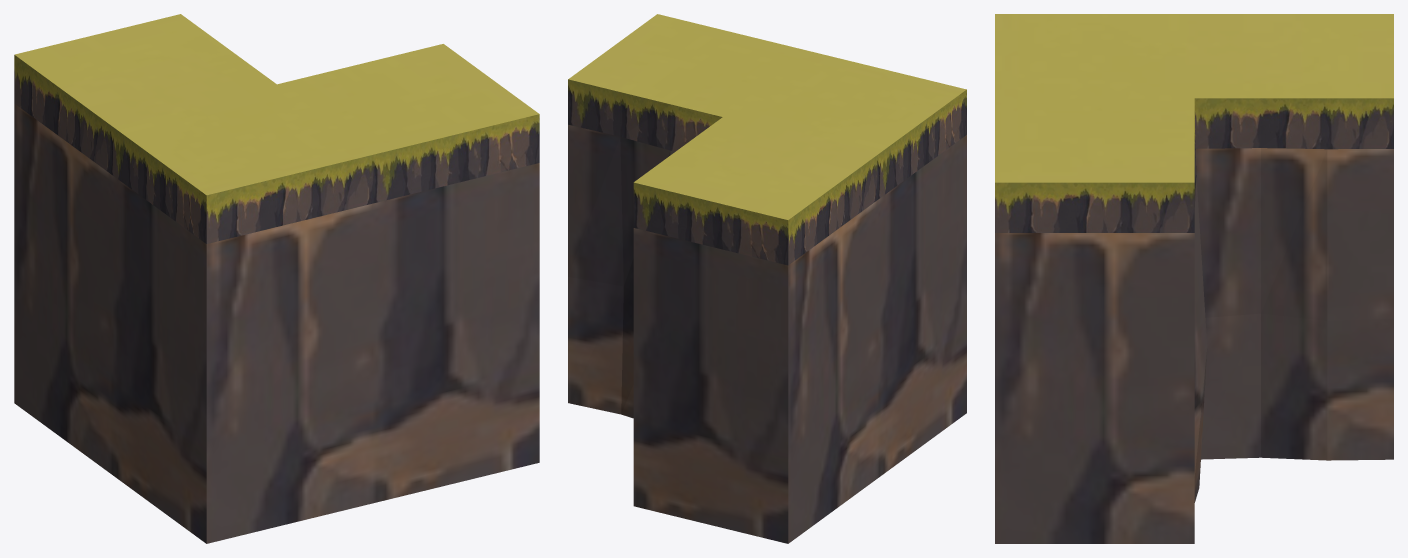
The model's file is SM_RC_Terrain_CliffCorner_Inner_8x8x8.gltf.
The picture shows the model from 3 angles, left to right: view 1: azimuth 30°, elevation 25°; view 2: azimuth 150°, elevation 25°; view 3: azimuth 270°, elevation 25°; orthographic projection. The views are drawn at different scales.
Parts seen in each view (by area): view 1: SM_RC_Terrain_CliffCorner_Inner_8x8x8; view 2: SM_RC_Terrain_CliffCorner_Inner_8x8x8; view 3: SM_RC_Terrain_CliffCorner_Inner_8x8x8.
Part boxes in pixels (x1,y1,x2,y2): SM_RC_Terrain_CliffCorner_Inner_8x8x8: [14, 14, 539, 543]; SM_RC_Terrain_CliffCorner_Inner_8x8x8: [568, 14, 966, 543]; SM_RC_Terrain_CliffCorner_Inner_8x8x8: [995, 14, 1393, 543].
Size of the model in its own units: 8 by 8 by 8.
Materials: 1 (1 with a texture image).
